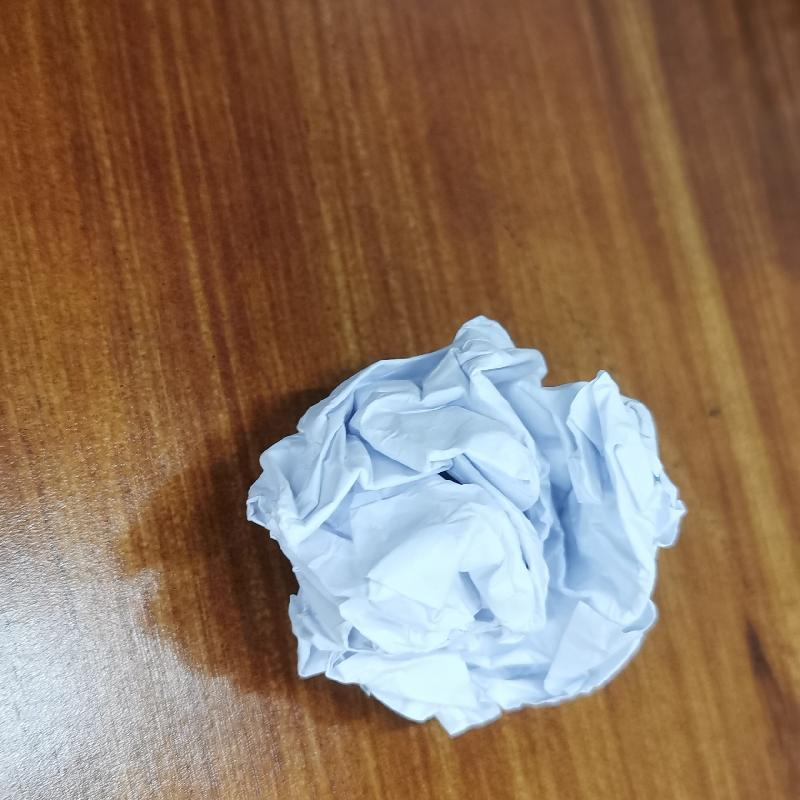spitball: (244, 312, 691, 744)
